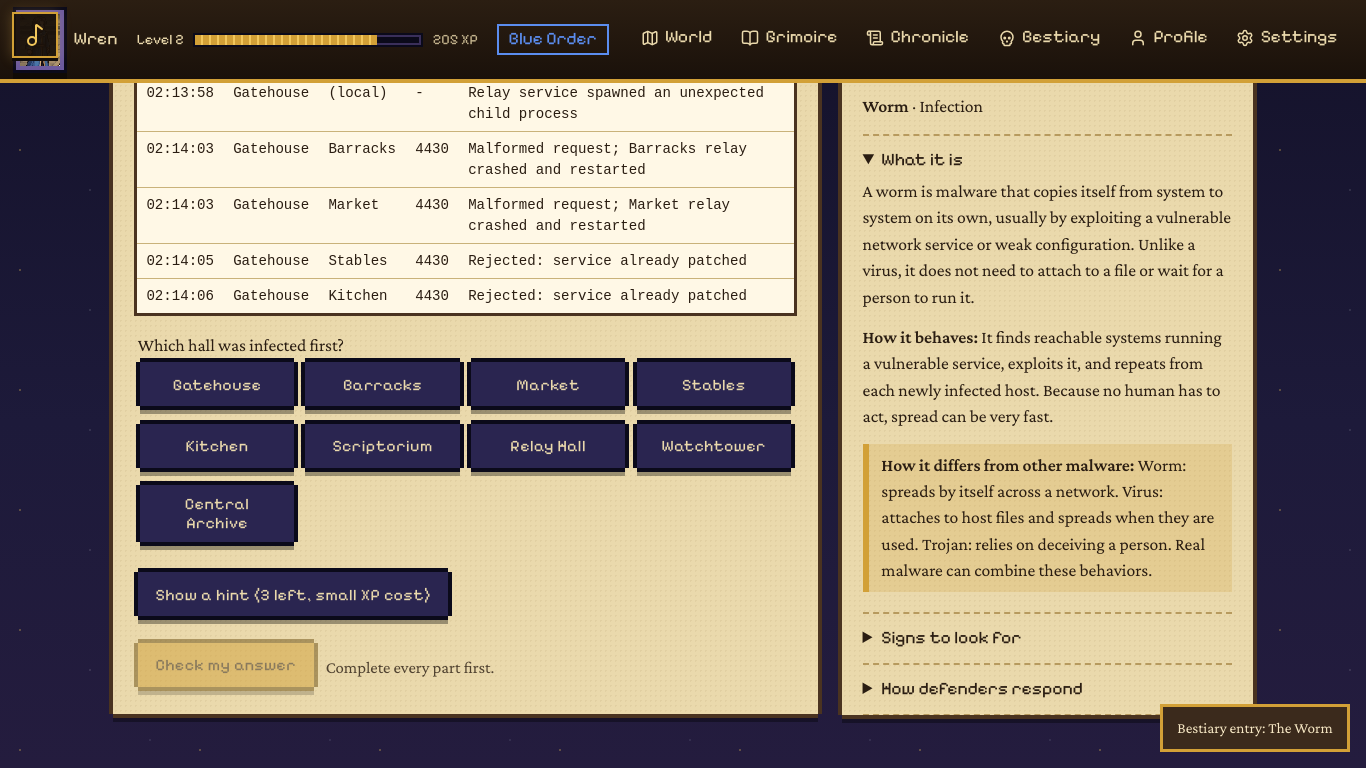
Scenario: Malware Bestiary in the UI › plays the Worm boss in the UI: wrong patient zero is explained, then isolating patient zero wins
(page scrolled)
Expected: the button "Check my answer" is disabled, [138,643,314,687]
wrong guess
Click the button "Barracks".
click(383, 384)  # box [305,362,460,406]
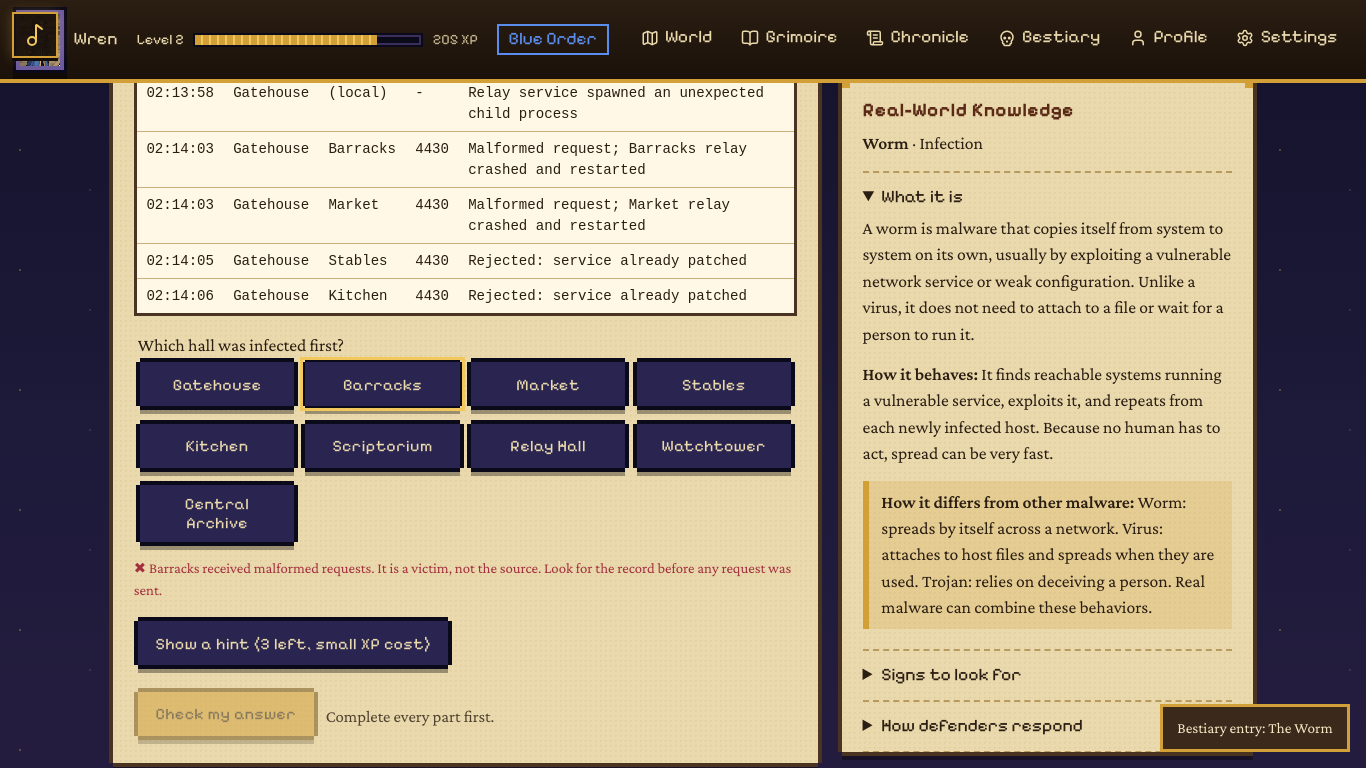
Now the text "victim, not the source" is shown, box [134,560,791,598]
Click the button "Gatehouse".
click(217, 384)  # box [140,362,294,406]
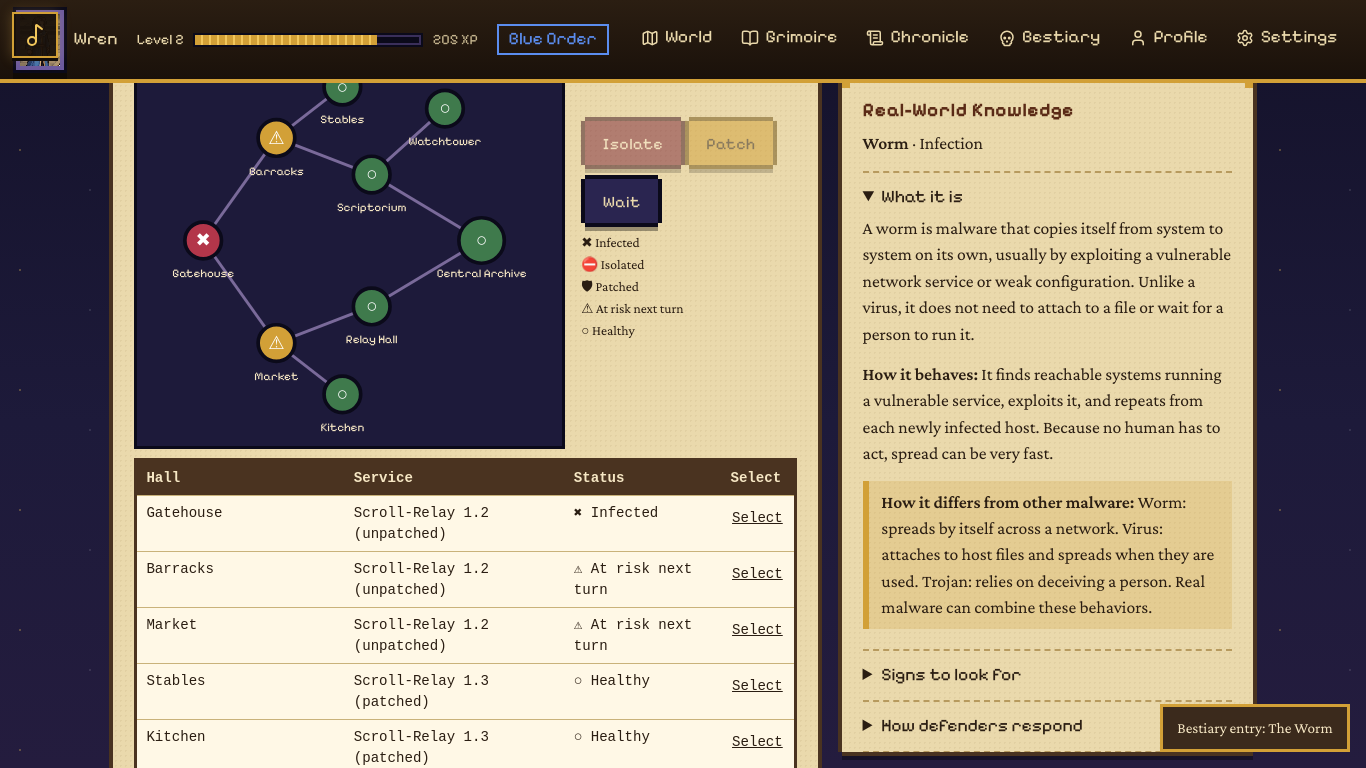
Select Gatehouse in the accessible table and isolate it
Click the 1st button "Select".
click(757, 518)  # box [730,502,784,534]
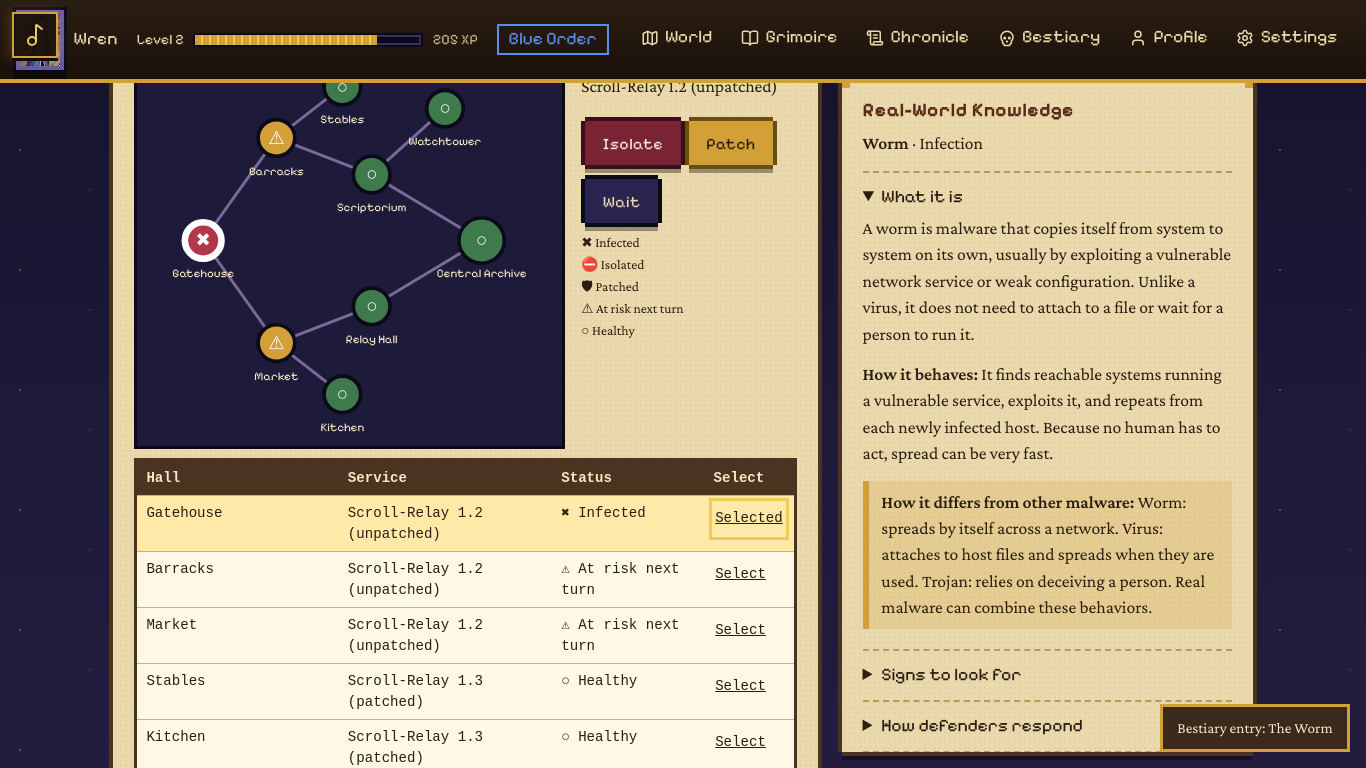
Click the button "Isolate".
click(633, 143)  # box [585,121,681,165]
(page scrolled)
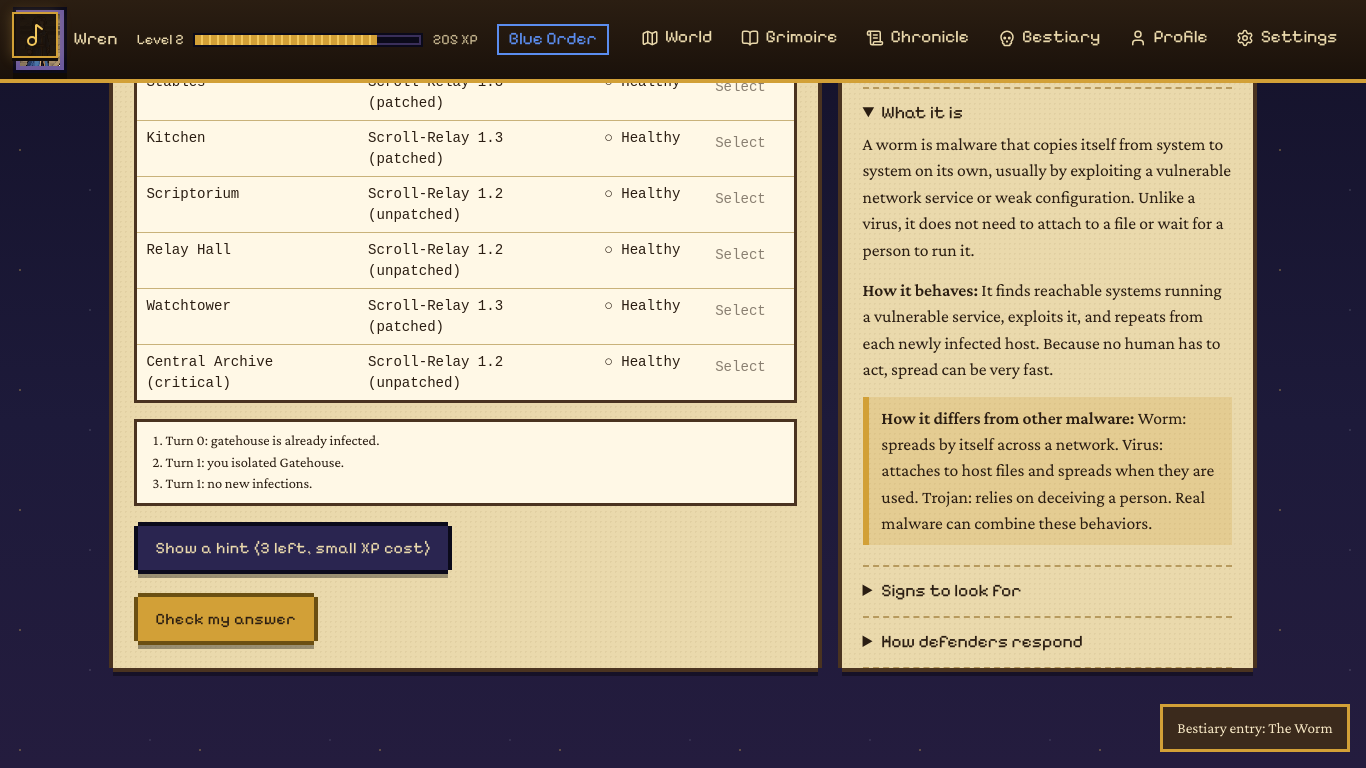
Now the button "Check my answer" is enabled
Click the button "Check my answer".
click(226, 619)  # box [138,597,314,641]
(page scrolled)
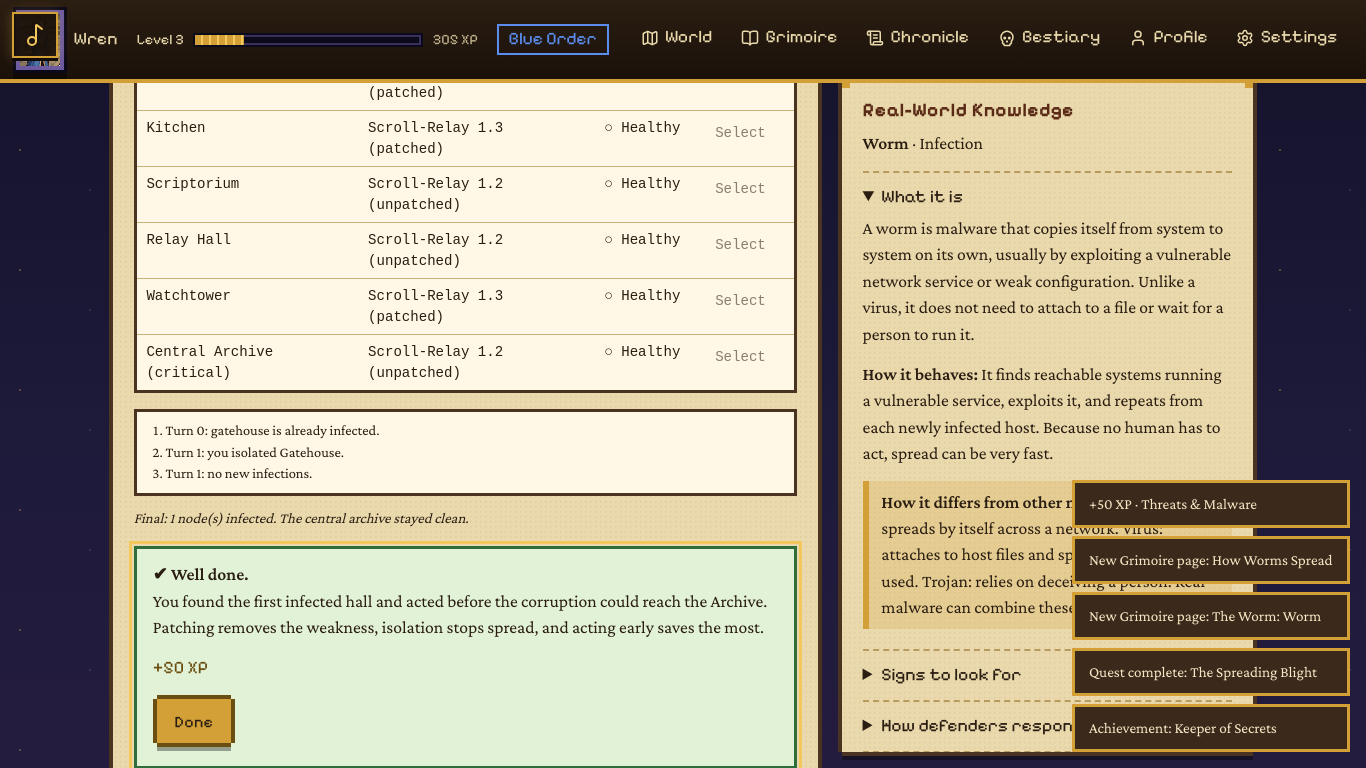
Now the text "✔ Well done." is shown, box [153,564,249,584]
